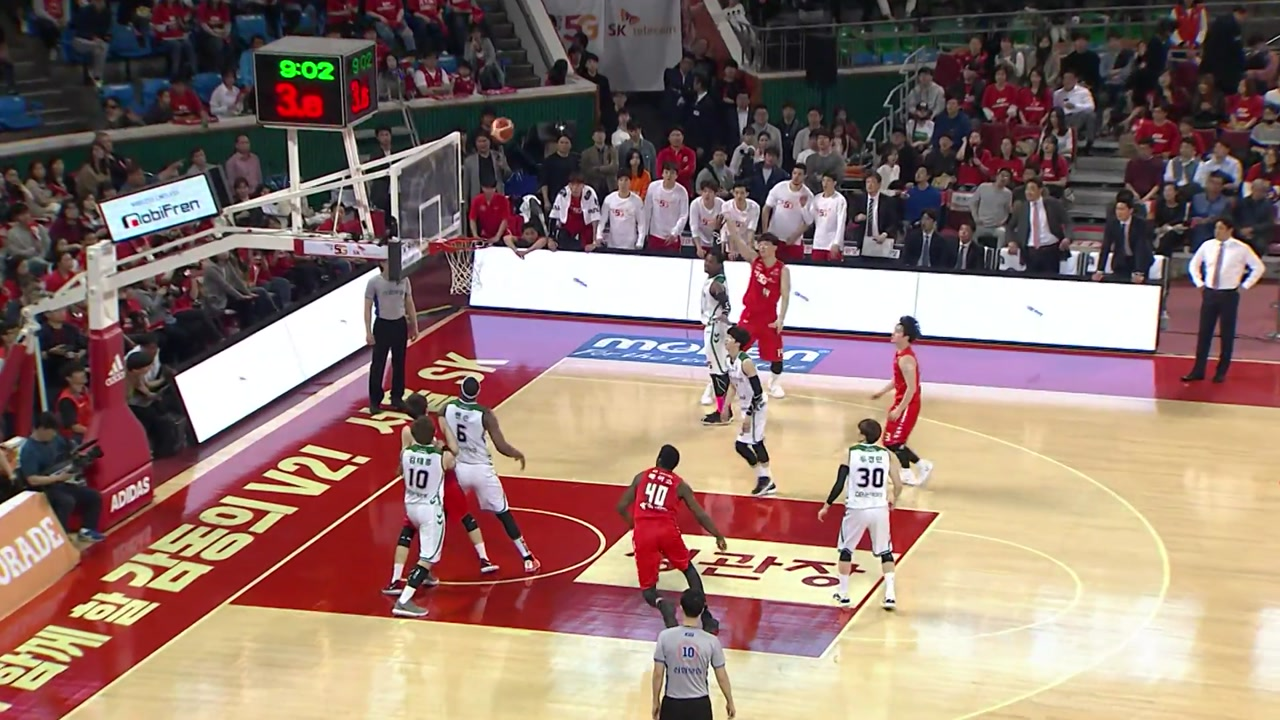defense: (433, 357, 554, 593)
run: (606, 426, 734, 645)
stand: (860, 307, 949, 500), (697, 320, 797, 491)
